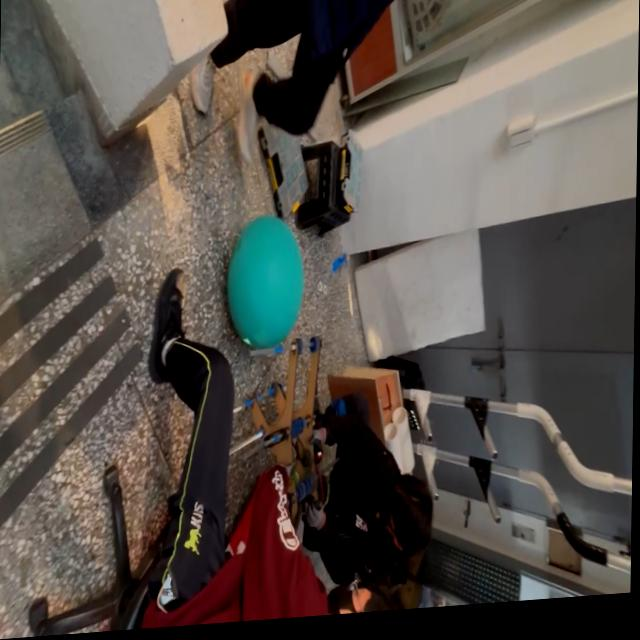ALGAE: (224, 210, 306, 354)
